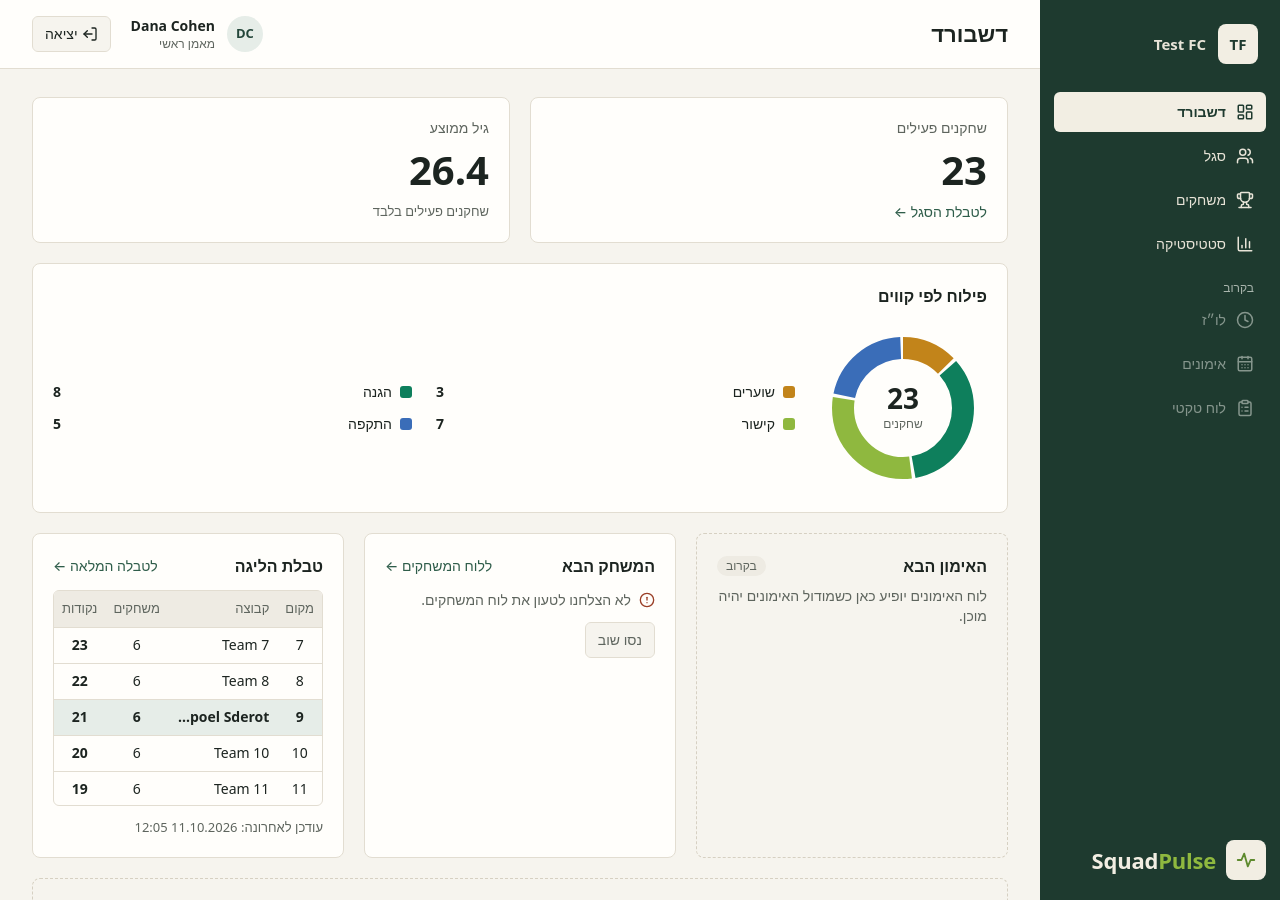
it: the match cards' states › show each card's own error with a retry; the other card and the squad row still load
(page scrolled)
Expected: the heading "דשבורד" is shown, [931, 20, 1008, 48]
Expected: the text "לא הצלחנו לטעון את לוח המשחקים." is shown, [421, 590, 655, 610]
Click the button "נסו שוב": (620, 640) [585, 622, 655, 658]
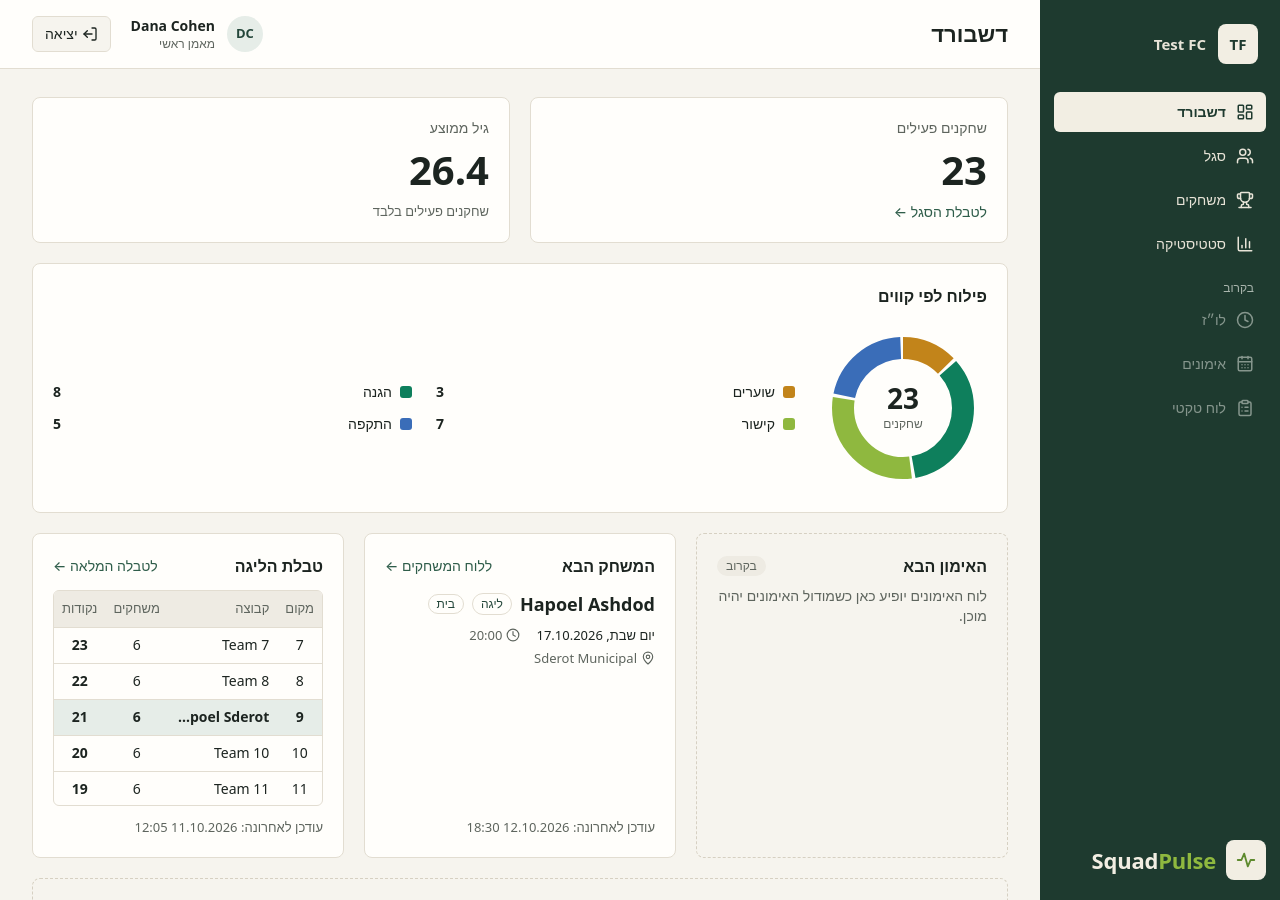
Expected: the element "המשחק הבא" is shown, [364, 533, 676, 858]
Expected: the text "Hapoel Ashdod" is shown, [520, 590, 655, 618]
